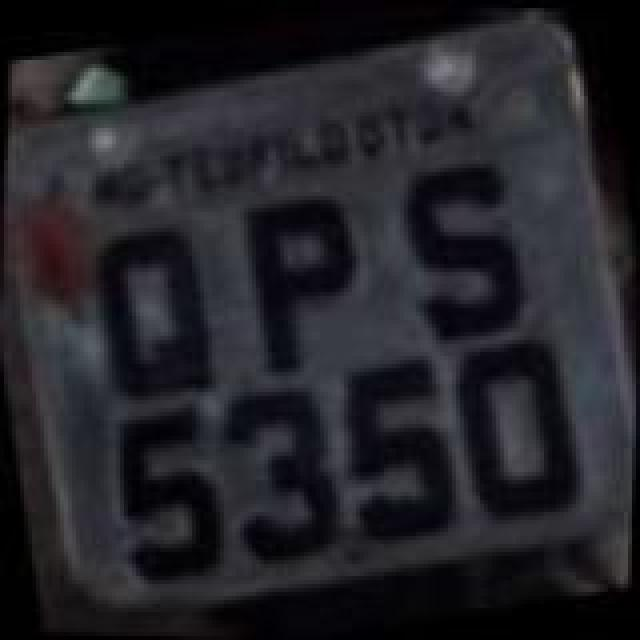3: (200, 376, 360, 572)
5: (320, 344, 476, 548), (96, 394, 240, 586)
O: (442, 330, 594, 534)
P: (232, 182, 384, 378)
Q: (76, 214, 232, 406)
S: (382, 148, 546, 344)
